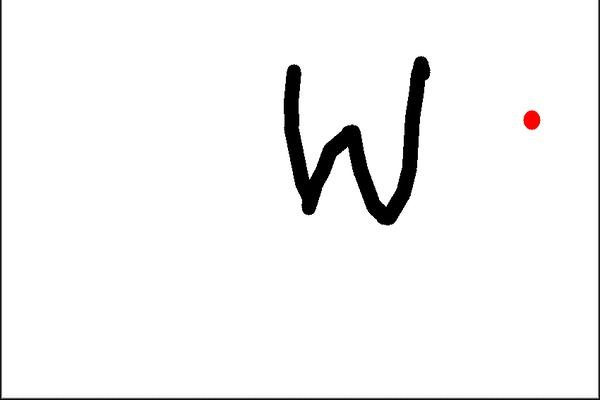w: (269, 42, 438, 239)
